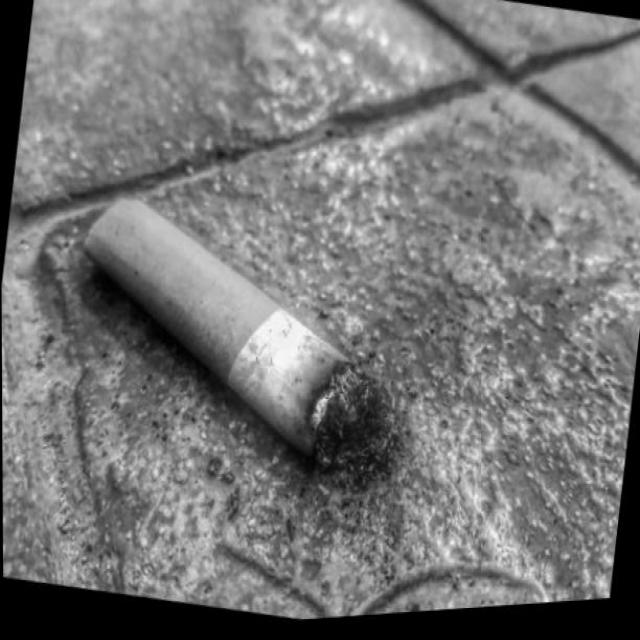cigarette: (55, 165, 418, 510)
